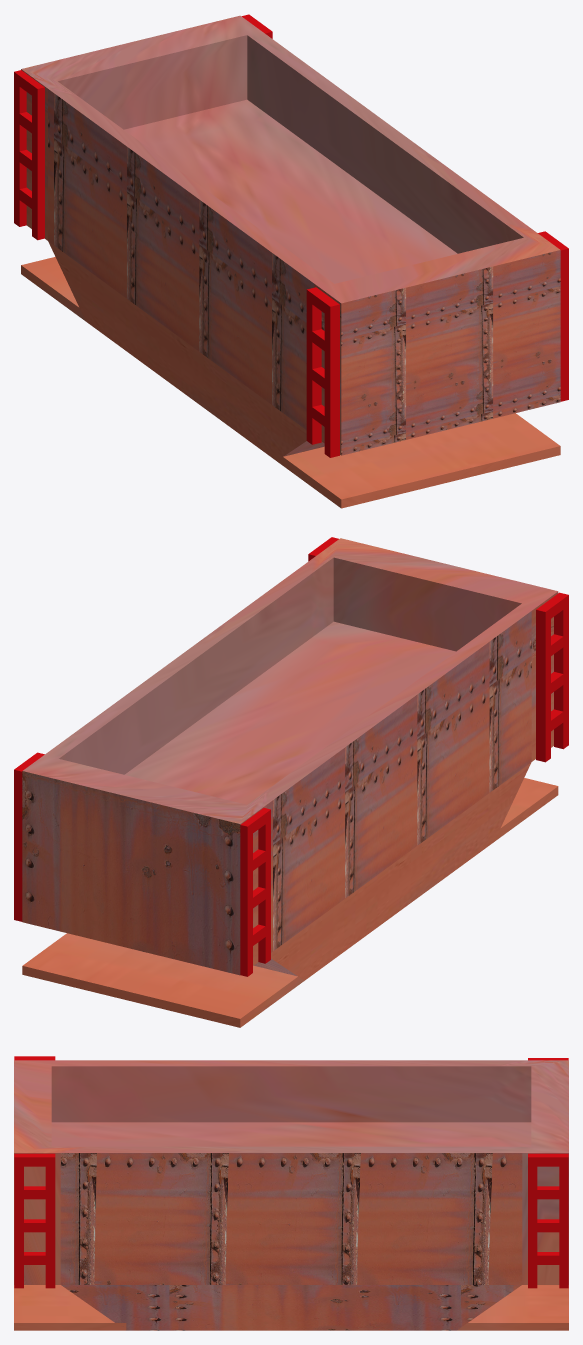
File: Wagon.fbx
3 views of the same model, one above another, from view 1: azimuth 30°, elevation 25°; view 2: azimuth 150°, elevation 25°; view 3: azimuth 270°, elevation 25° (orthographic). The views are drawn at different scales.
Visible parts, largest first — view 1: Cube, Cube.004, Cube.003, Cube.002; view 2: Cube, Cube.004, Cube.003, Cube.001; view 3: Cube, Cube.002, Cube.001.
Boxes of the visible parts, left/top/right/bottom form: Cube: left=21, top=15, right=560, bottom=508; Cube.004: left=306, top=287, right=339, bottom=457; Cube.003: left=14, top=70, right=44, bottom=240; Cube.002: left=538, top=231, right=568, bottom=401; Cube: left=22, top=538, right=558, bottom=1027; Cube.004: left=536, top=592, right=568, bottom=762; Cube.003: left=240, top=808, right=270, bottom=976; Cube.001: left=14, top=752, right=44, bottom=921; Cube: left=14, top=1060, right=568, bottom=1330; Cube.002: left=14, top=1153, right=55, bottom=1288; Cube.001: left=528, top=1153, right=568, bottom=1288.
Bounding box in the file's own units: 779 × 639 × 1809.
